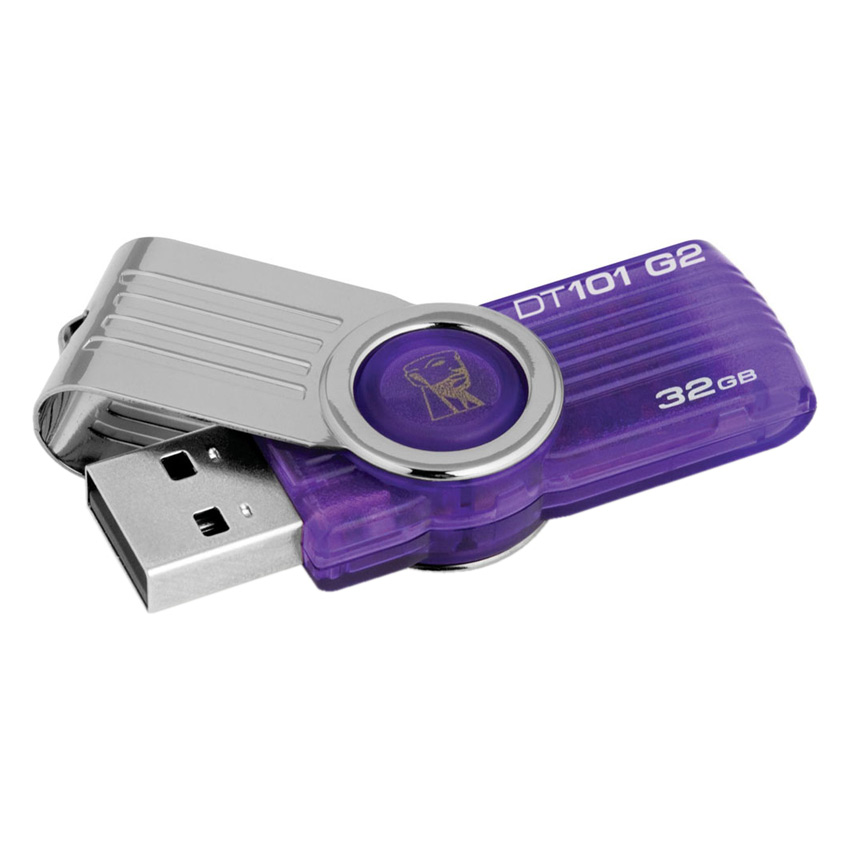Kingston: (389, 344, 500, 434)
